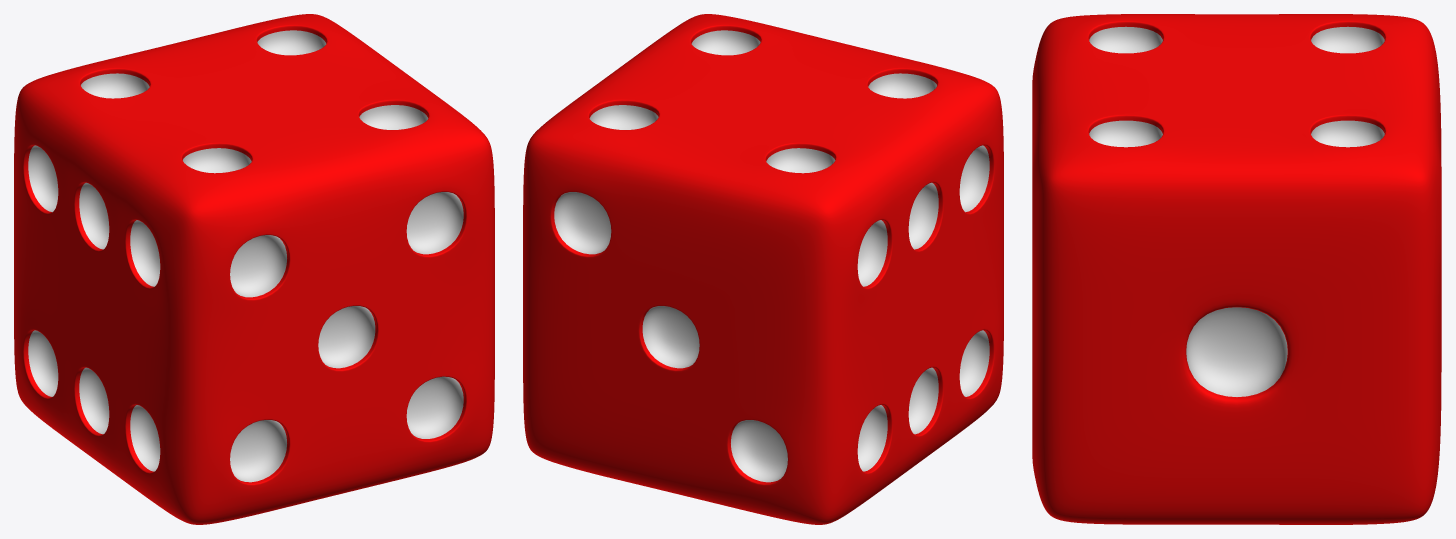
3 views of the same model, side by side, from view 1: azimuth 30°, elevation 25°; view 2: azimuth 150°, elevation 25°; view 3: azimuth 270°, elevation 25° (orthographic). The views are drawn at different scales.
Visible parts, largest first — view 1: Cube; view 2: Cube; view 3: Cube.
Boxes of the visible parts, x1,y1,x2,y2 form: Cube: (14,14,494,524); Cube: (523,14,1003,524); Cube: (1032,14,1441,524).
Bounding box in the file's own units: 0.9997 × 1 × 1.
2 materials, 1 textured.
